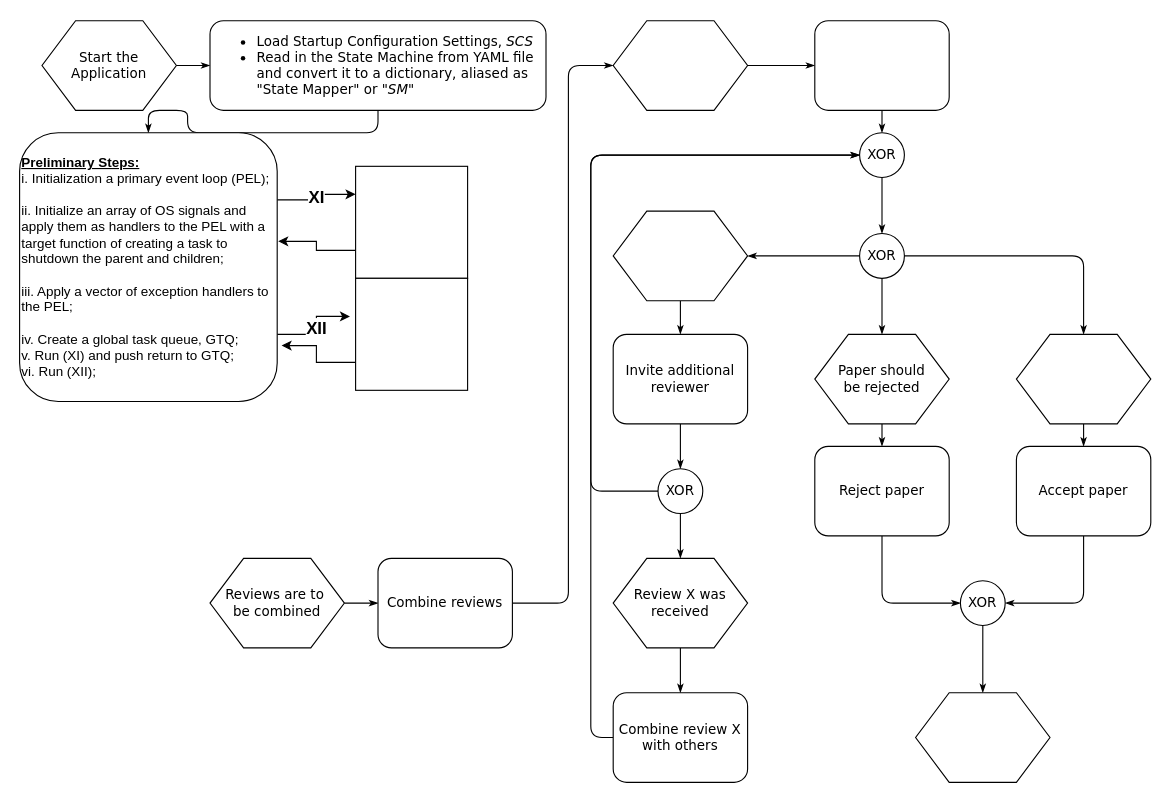
Image size: 1170x802. Some labels were removed from this diagram. Here are the shapes that lost their labels. From the top down, the centre of each, then its label:
(680,65): Discussion is to be made
(881,65): Decide on acceptance
(411,221): return SM(SCS) -> Vec<Tasks>
(680,255): Additional review is needed
(411,333): Run PEL until complete
(1083,378): Paper should be accepted
(982,737): End
